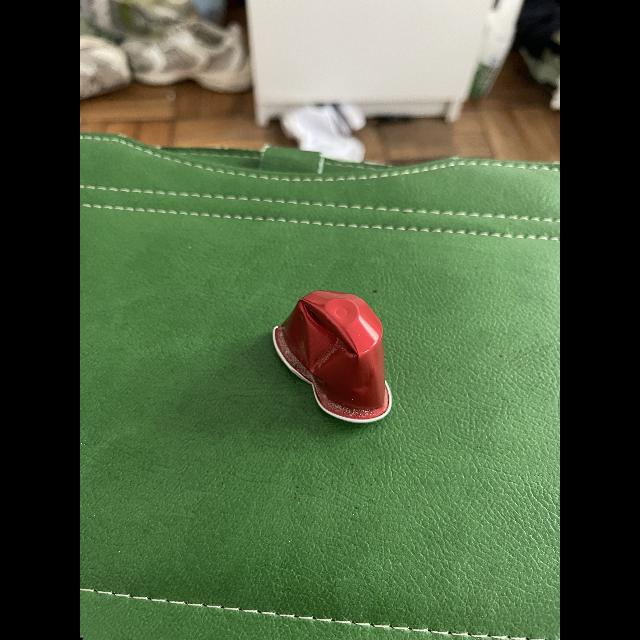damaged_capsule: (262, 285, 413, 429)
